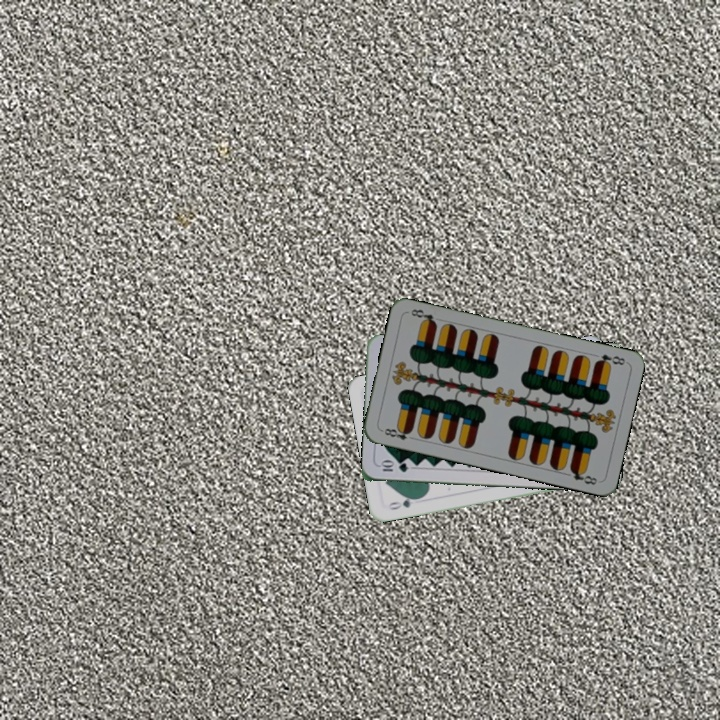E8: (377, 423, 417, 443), (591, 350, 628, 369)
G10: (377, 458, 410, 474)
GO: (384, 493, 423, 512)
